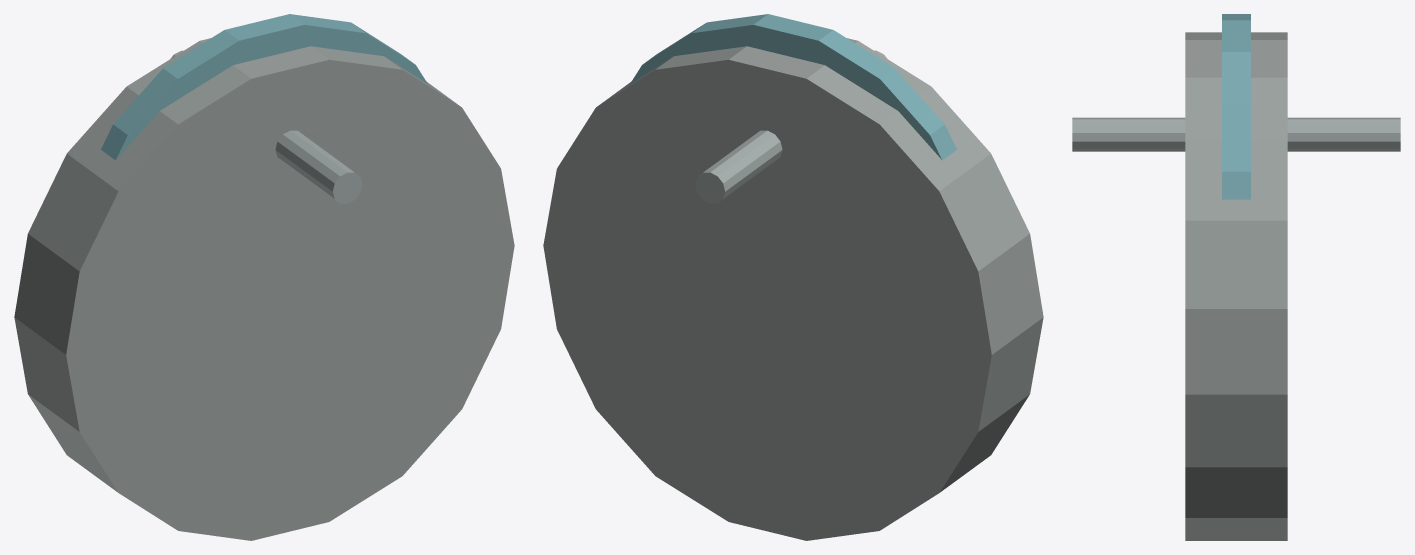
The model's file is effluent-treatment-eco.glb.
The picture shows the model from 3 angles, left to right: view 1: azimuth 30°, elevation 25°; view 2: azimuth 150°, elevation 25°; view 3: azimuth 270°, elevation 25°; orthographic projection.
Parts seen in each view (by area): view 1: basin, water, shaft; view 2: basin, water, shaft; view 3: basin, shaft, water.
Boxes of the visible parts, box(x1,y1,x2,y2) form: basin: box(14, 38, 514, 540); water: box(101, 14, 427, 160); shaft: box(170, 50, 362, 203); basin: box(543, 38, 1043, 540); water: box(630, 14, 956, 160); shaft: box(695, 50, 887, 203); basin: box(1185, 32, 1287, 540); shaft: box(1072, 117, 1400, 151); water: box(1222, 14, 1250, 199).
Bounding box in the file's own units: 2.1 × 2.17 × 1.35.
